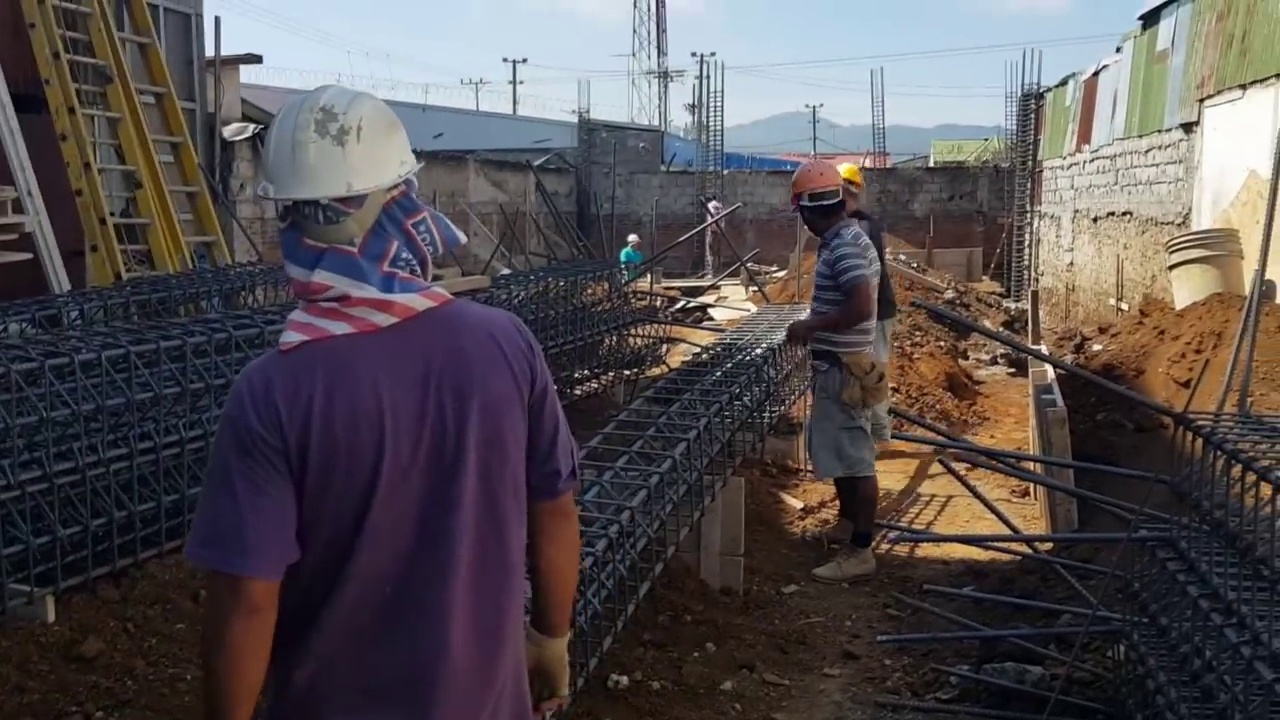helmet: (245, 81, 415, 202), (789, 163, 843, 212), (837, 159, 868, 192), (626, 234, 642, 245)
helmet-off: (702, 194, 714, 207)
helmet-on: (242, 79, 445, 300), (787, 160, 856, 238), (837, 164, 867, 216), (625, 233, 643, 252)
person: (179, 79, 561, 720), (784, 161, 887, 566), (835, 157, 896, 457), (701, 191, 727, 279), (614, 232, 645, 280)
